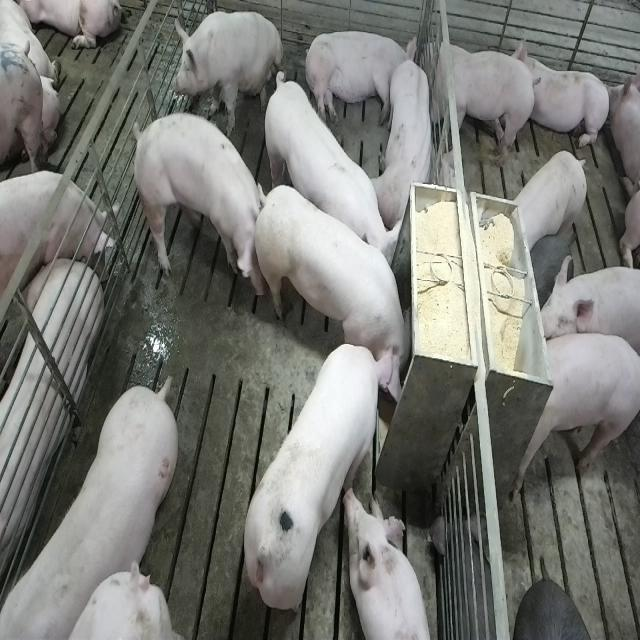Feeding: (242, 338, 402, 615), (258, 175, 420, 382)
Lateral_lying: (0, 253, 101, 602), (303, 28, 417, 127)
Sitting: (172, 9, 284, 133)
Standing: (5, 373, 184, 636), (260, 67, 399, 286), (127, 110, 263, 311), (509, 333, 638, 503), (420, 36, 539, 175), (0, 168, 117, 302), (537, 254, 640, 384), (512, 150, 588, 252)
Sternal_lying: (346, 489, 433, 640), (516, 35, 613, 154), (375, 53, 437, 230)
